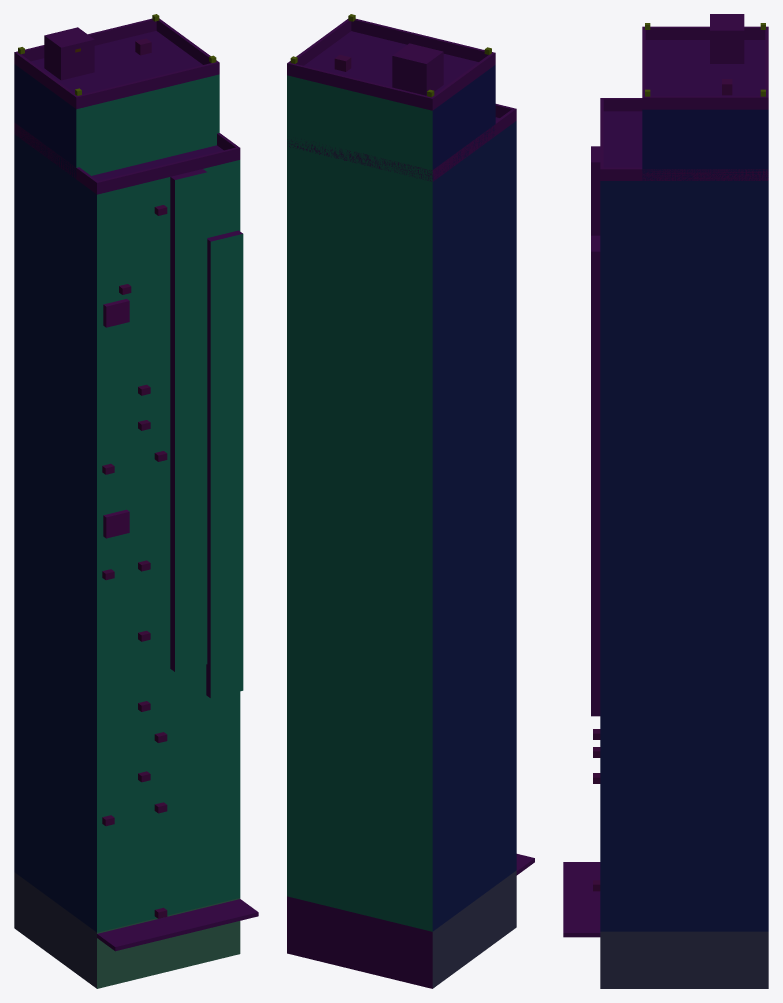
The model's file is slab_l.lod1.glb.
The picture shows the model from 3 angles, left to right: view 1: azimuth 30°, elevation 25°; view 2: azimuth 150°, elevation 25°; view 3: azimuth 270°, elevation 25°; orthographic projection.
Parts seen in each view (by area): view 1: slab_l.lod1; view 2: slab_l.lod1; view 3: slab_l.lod1.
Boxes of the visible parts, x1,y1,x2,y2 form: slab_l.lod1: (14,14,258,988); slab_l.lod1: (287,14,534,988); slab_l.lod1: (563,14,768,988).
Bounding box in the file's own units: 12.8 × 76.6 × 15.6.
